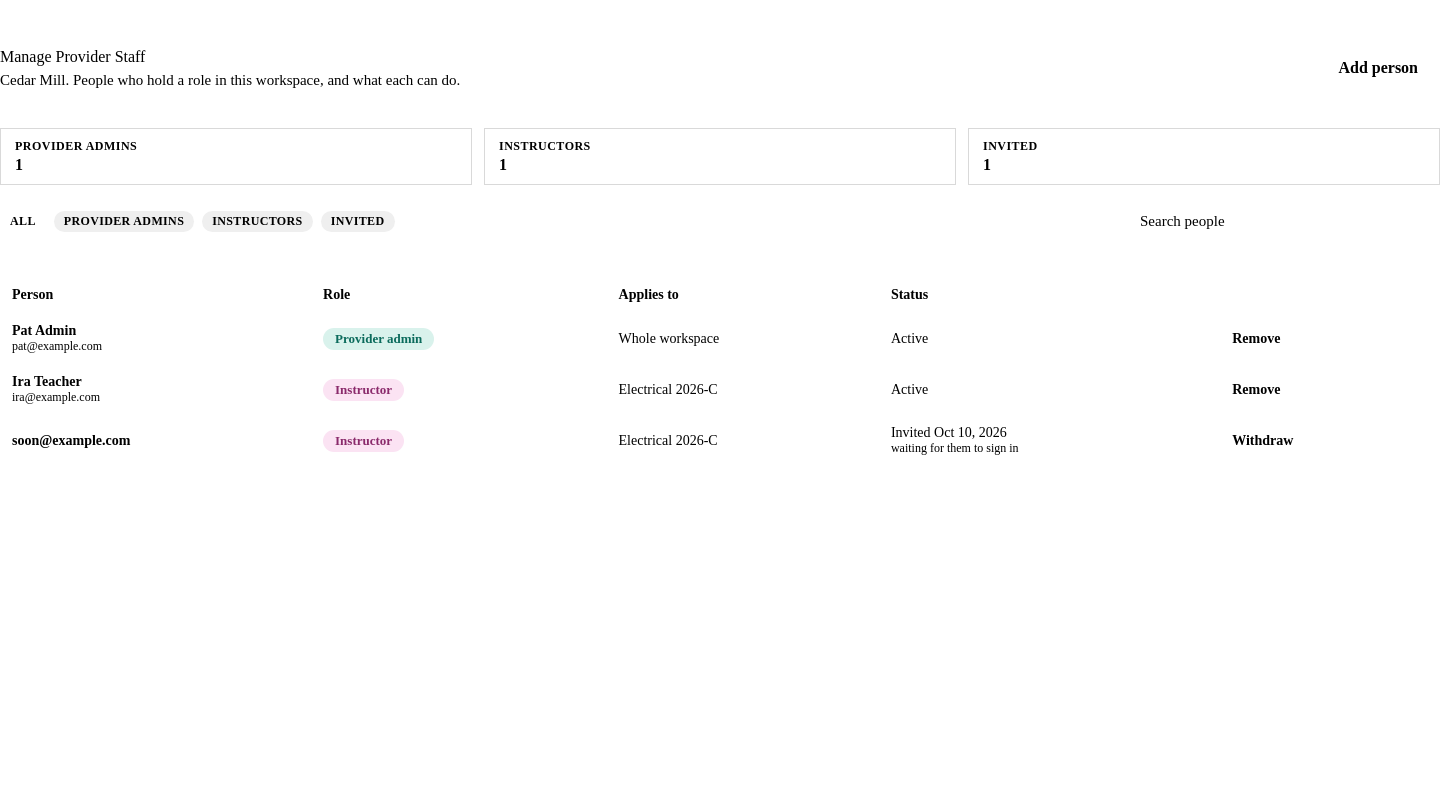
Test: MembersPage › shows an add error as an alert and keeps the panel open
Click the button "Add person".
click(1378, 68)  # box 1316,48 -> 1439,88
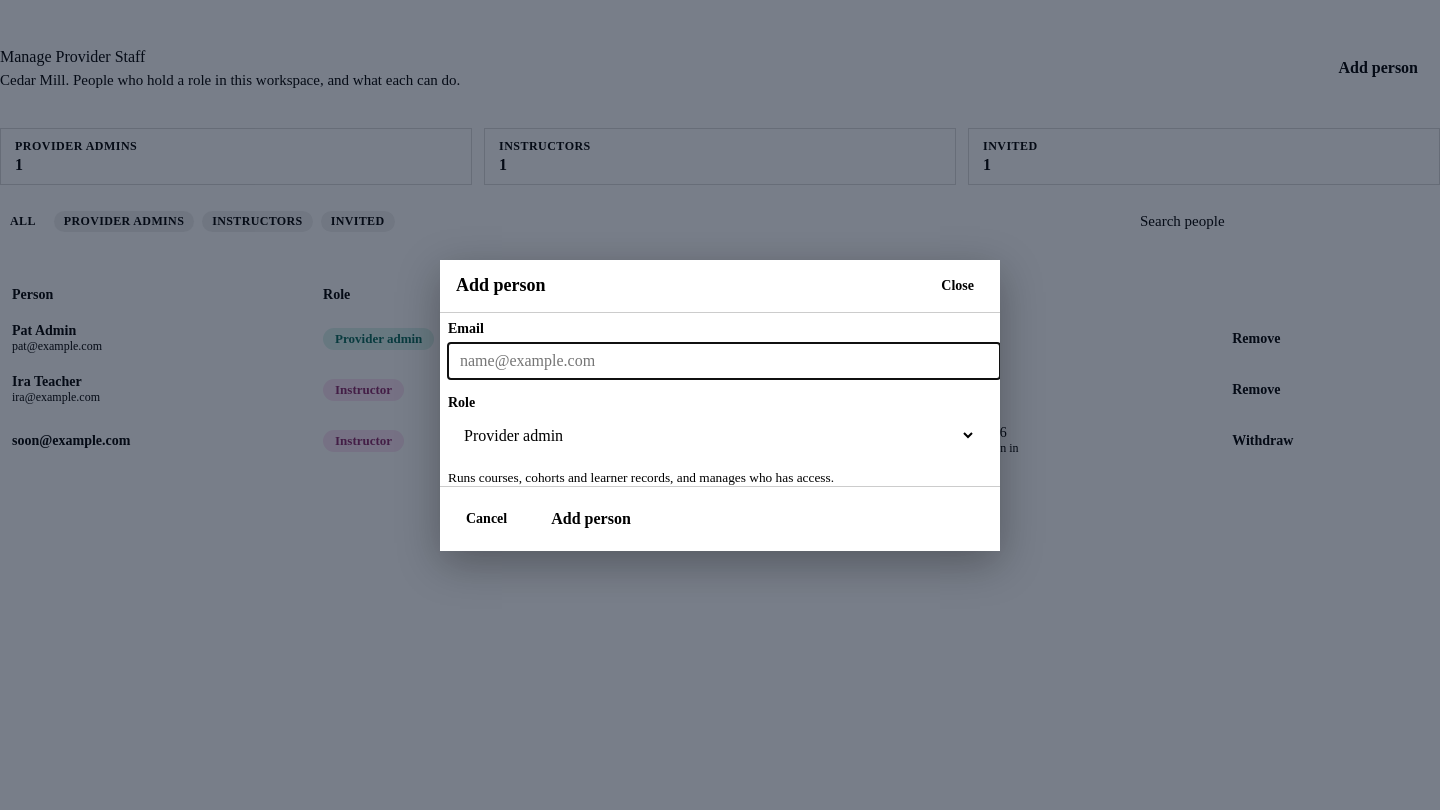
Type "x@example.com" into the field labelled "Email".
click(724, 360); type("x@example.com")  # box 448,342 -> 1000,378
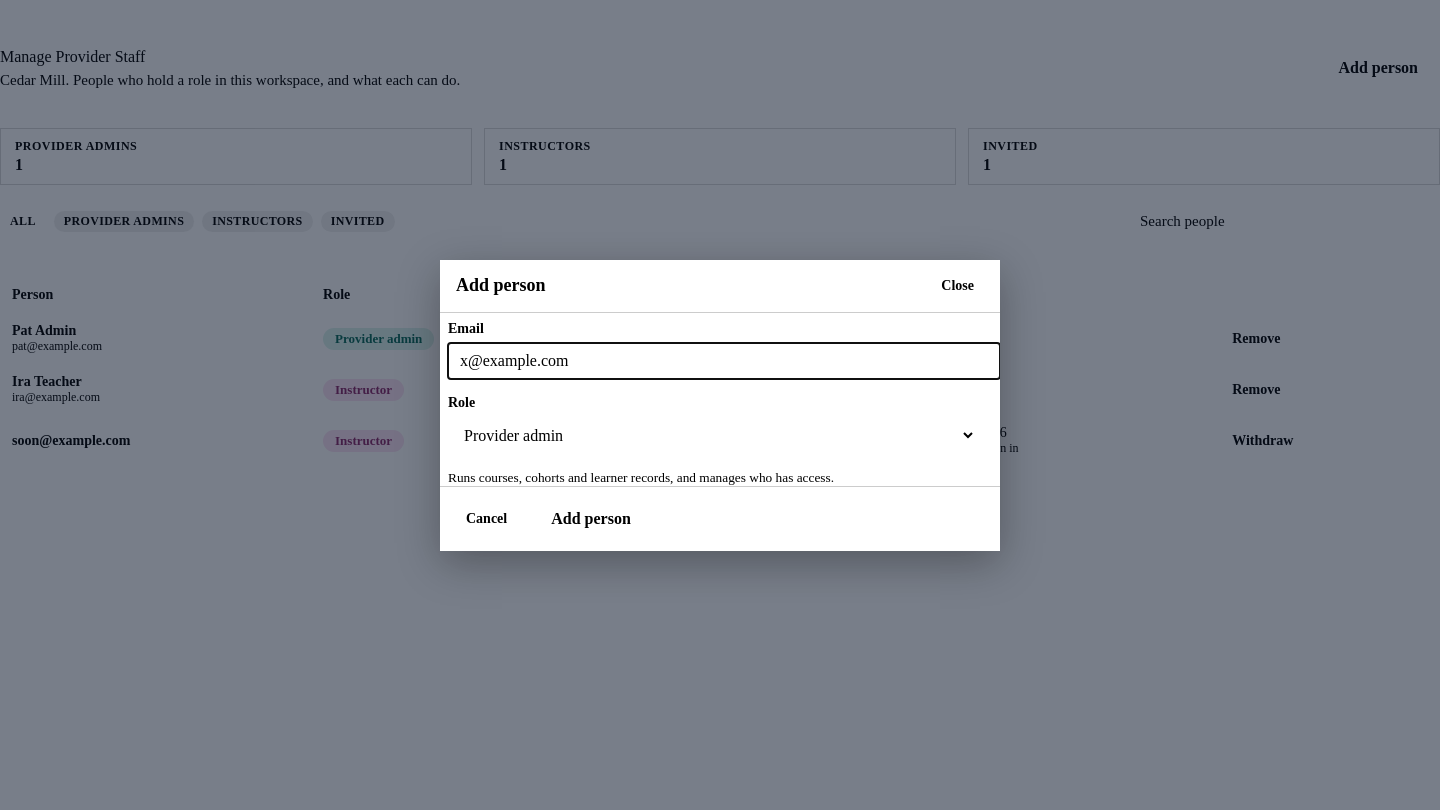
Click the button "Add person".
click(591, 518)  # box 529,498 -> 653,538
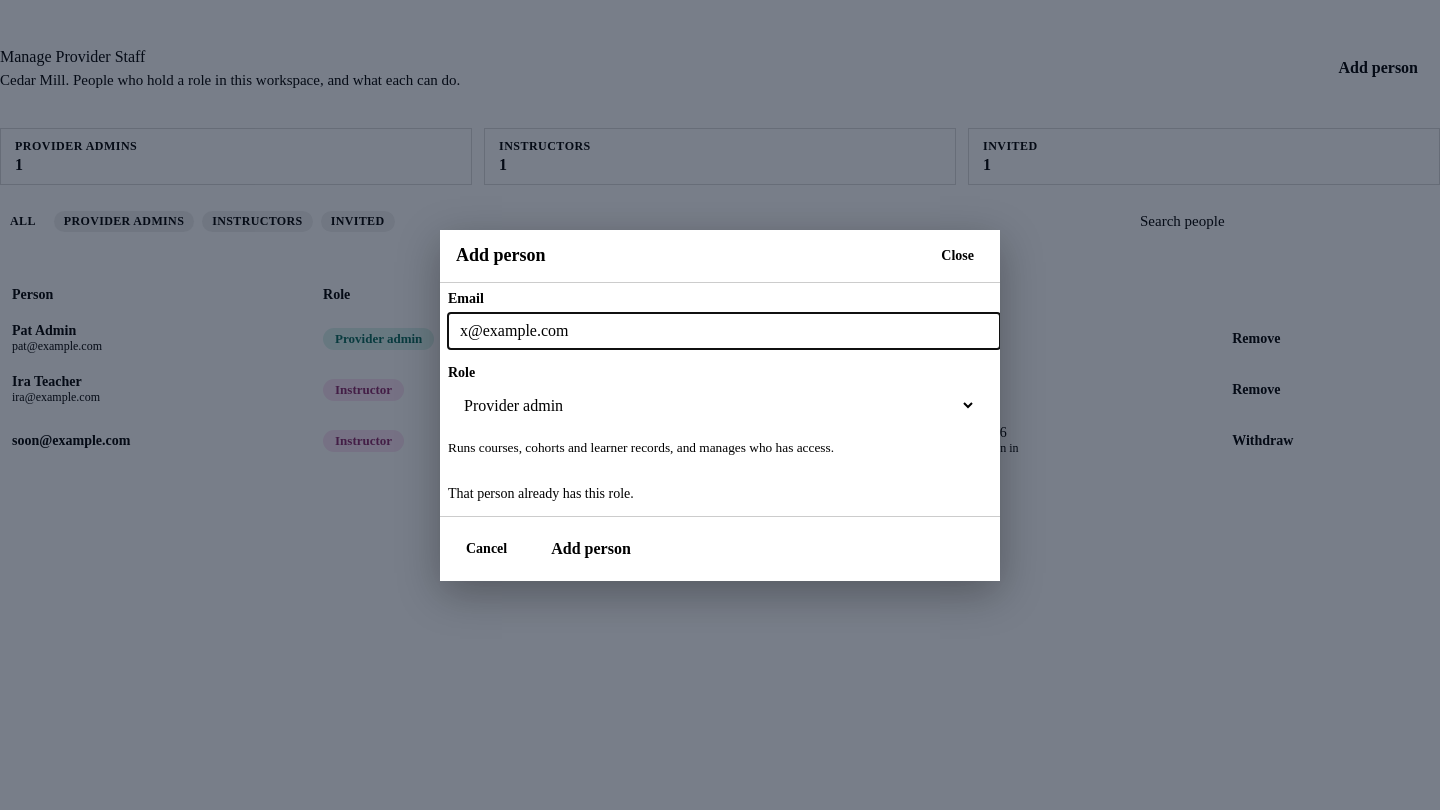
Now the message reads "That person already has this role.", box 448,486 -> 634,500
